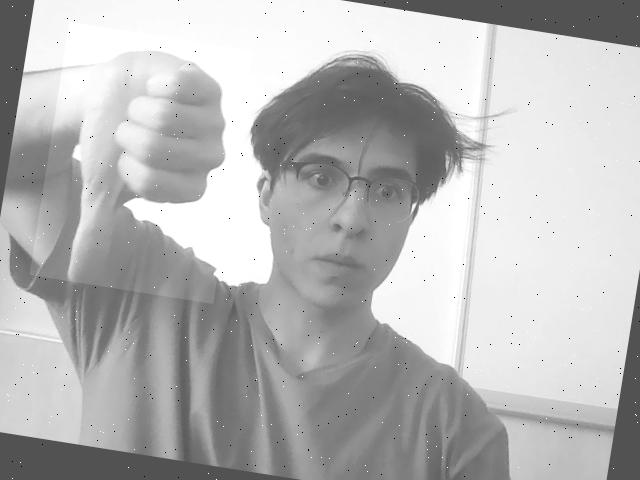bad: (29, 22, 253, 304)
